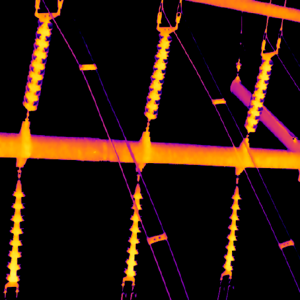insulator: (21, 23, 50, 111), (142, 35, 169, 118), (242, 60, 271, 130), (5, 178, 23, 285), (123, 183, 142, 277), (222, 185, 240, 270)
